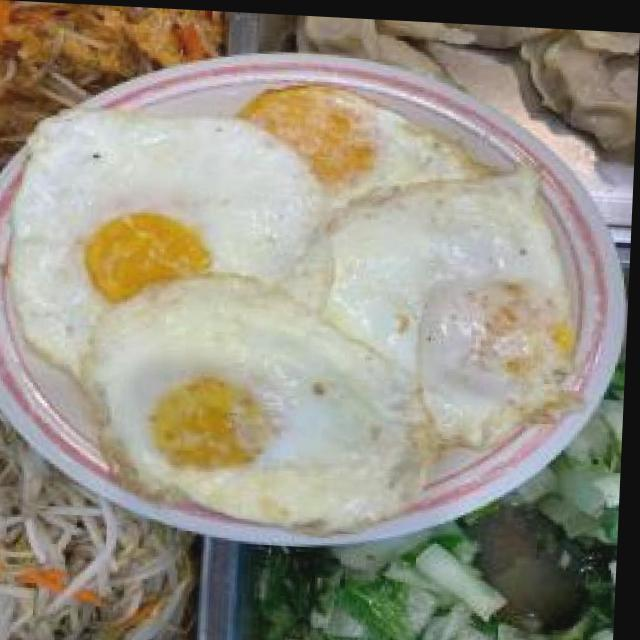fried_eggs: (45, 45, 514, 640)
mung_bean_sprouts: (490, 451, 625, 640)
